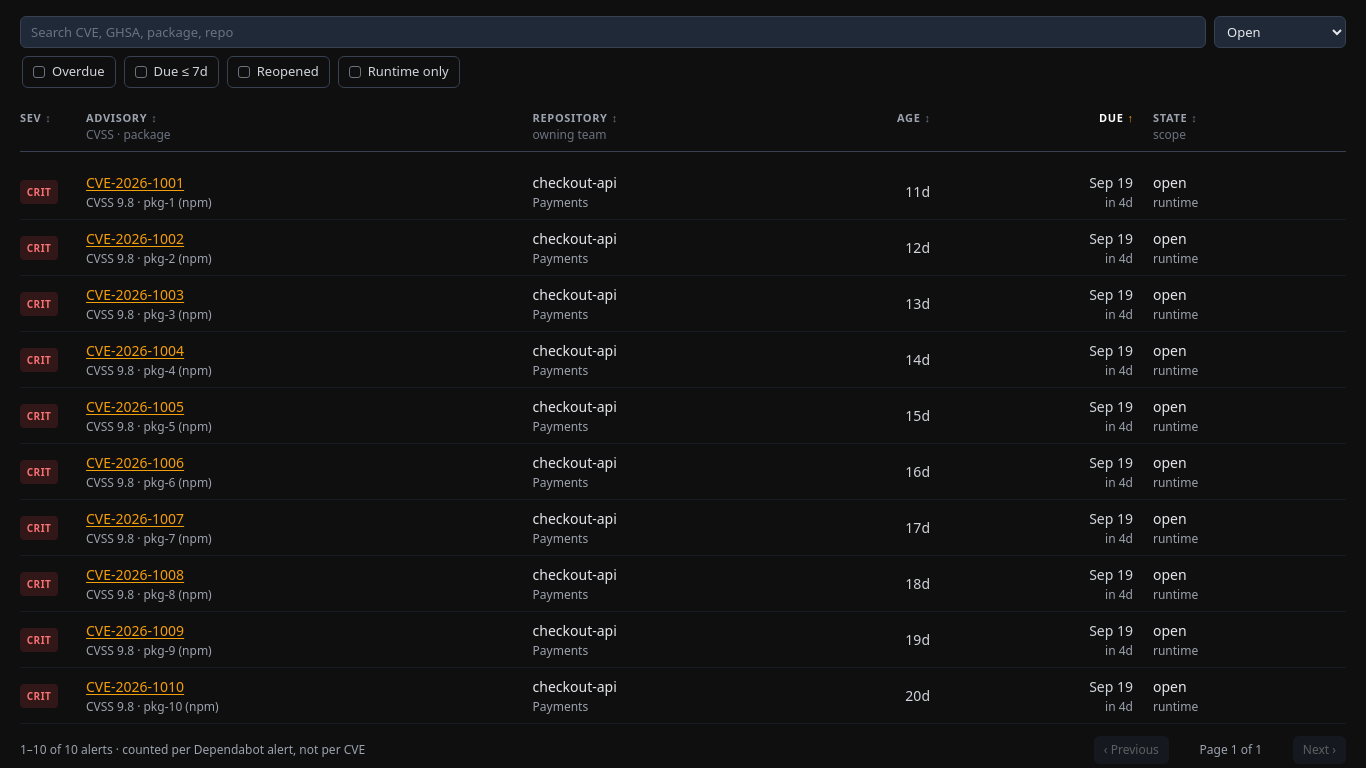
Test: toggles and Status with the real list controller › choosing Resolved disables the time toggles and clears whatever they were set to
The image size is (1366, 768).
Step 1. Click the button "Overdue" → coordinates (69, 72), box [22,56,116,88]
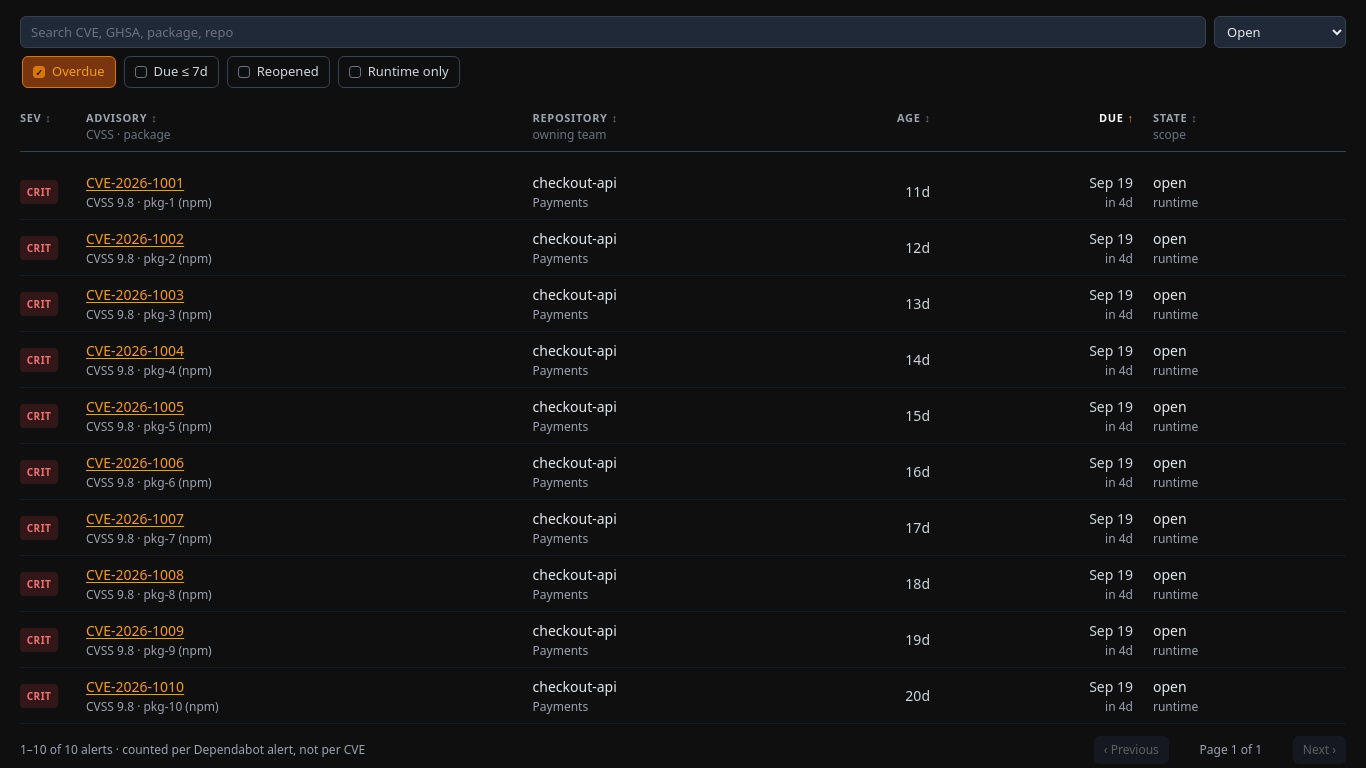
Step 2. Select "Resolved" in the dropdown named "Status" → coordinates (1280, 32), box [1214,16,1346,48]
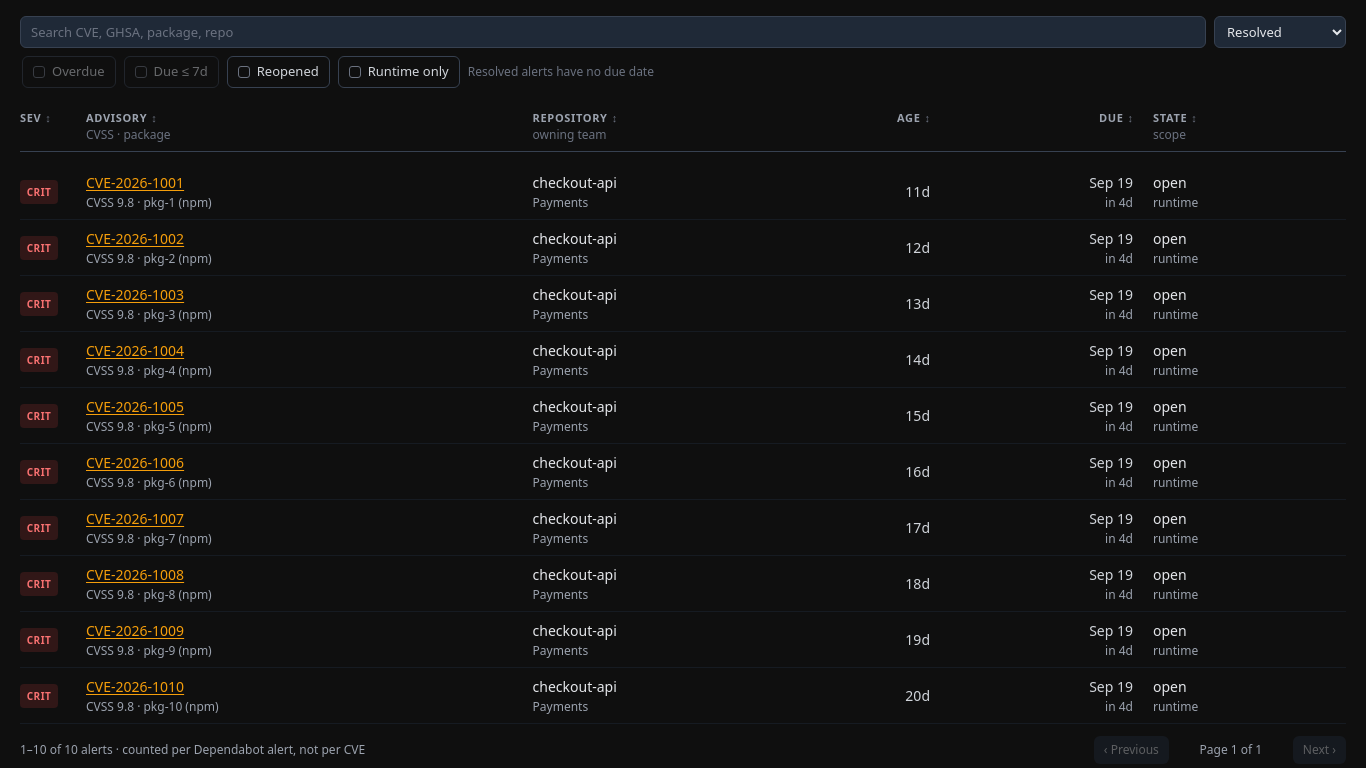
expect the button "Overdue" is disabled: met, box [22,56,116,88]
expect the button "Due ≤ 7d" is disabled: met, box [124,56,219,88]
Back to Open: still off, and enabled again.
Step 3. Select "Open" in the dropdown named "Status" → coordinates (1280, 32), box [1214,16,1346,48]
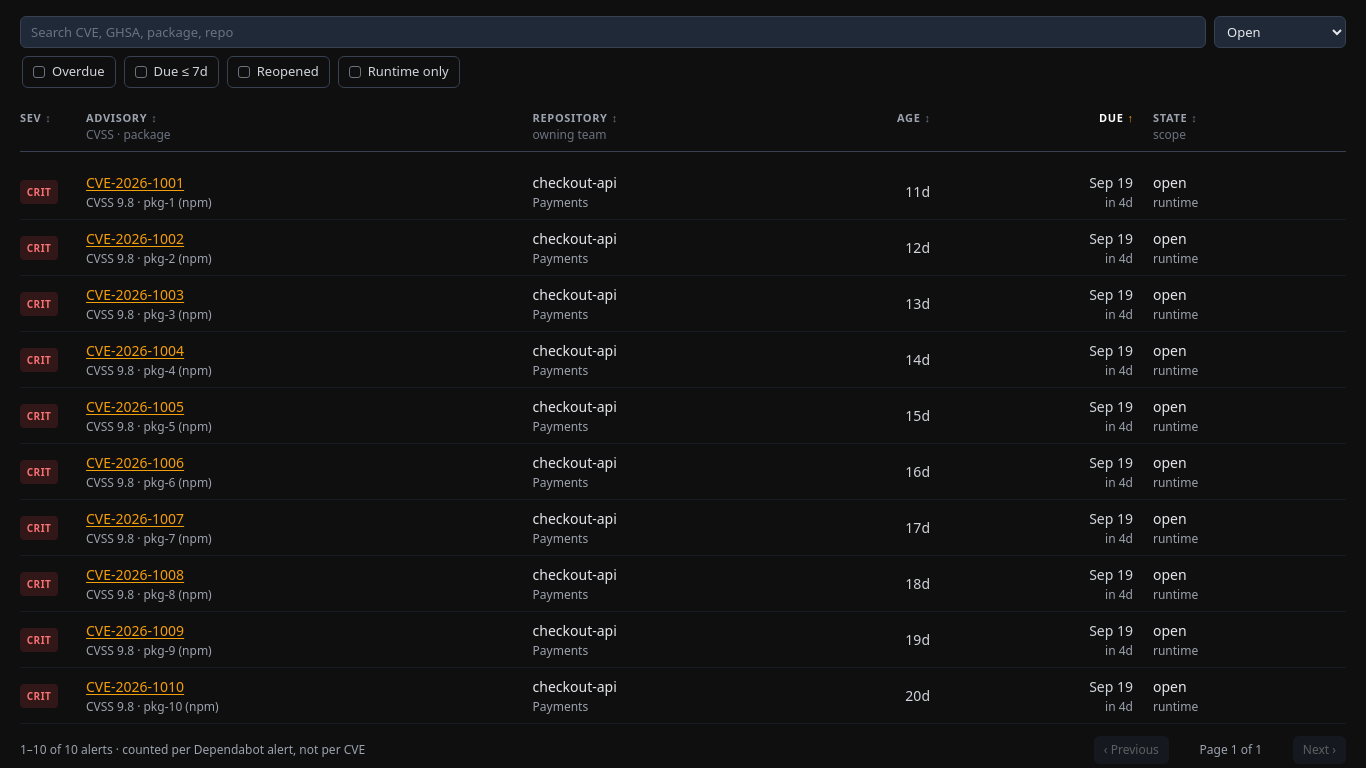
expect the button "Overdue" is enabled: met, box [22,56,116,88]
